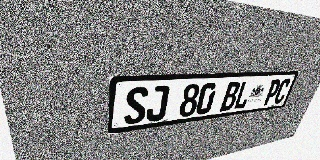0: (195, 83, 218, 115)
8: (178, 83, 202, 117)
B: (219, 81, 241, 112)
C: (272, 78, 292, 104)
J: (145, 85, 170, 122)
L: (233, 81, 254, 110)
P: (262, 79, 282, 106)
S: (124, 86, 149, 125)
